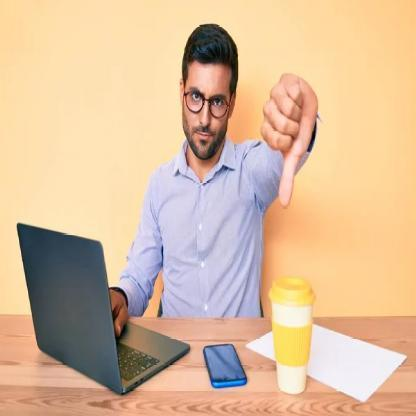thumb_down: (260, 66, 322, 210)
